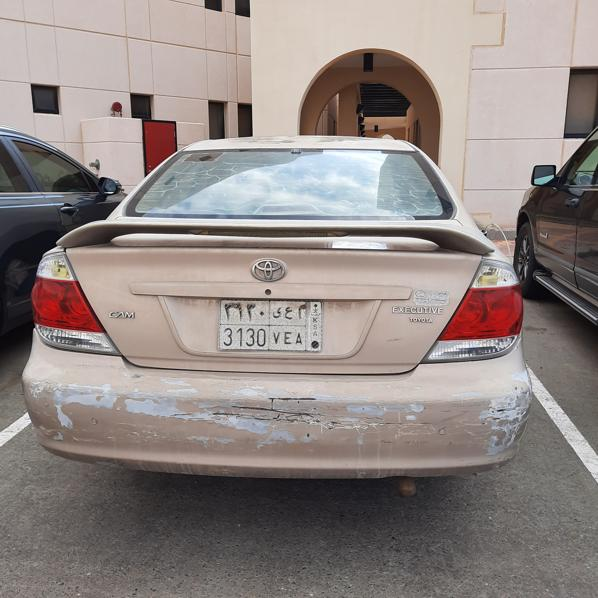numberplate: (219, 299, 322, 352)
